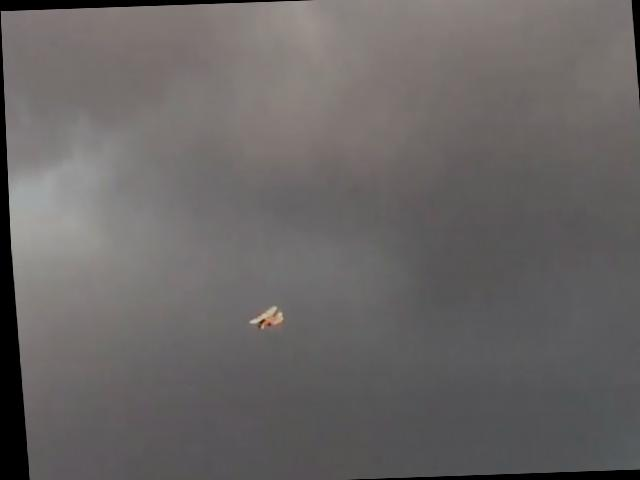plane: (245, 304, 284, 332)
